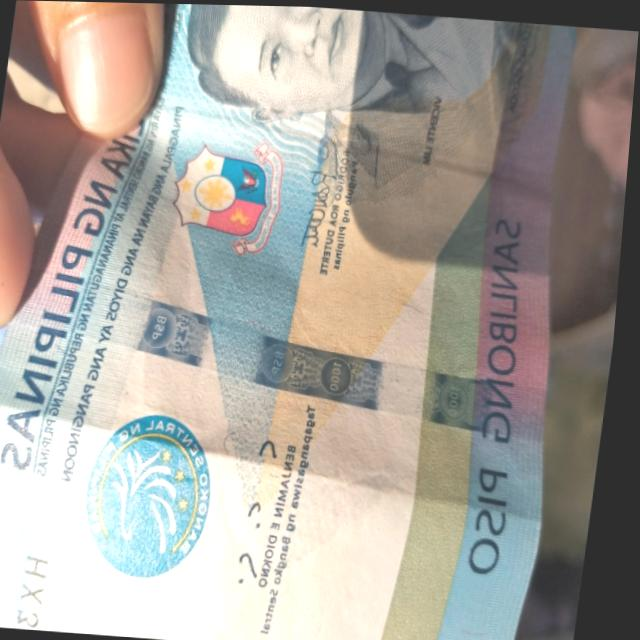security_thread: (19, 260, 552, 442)
